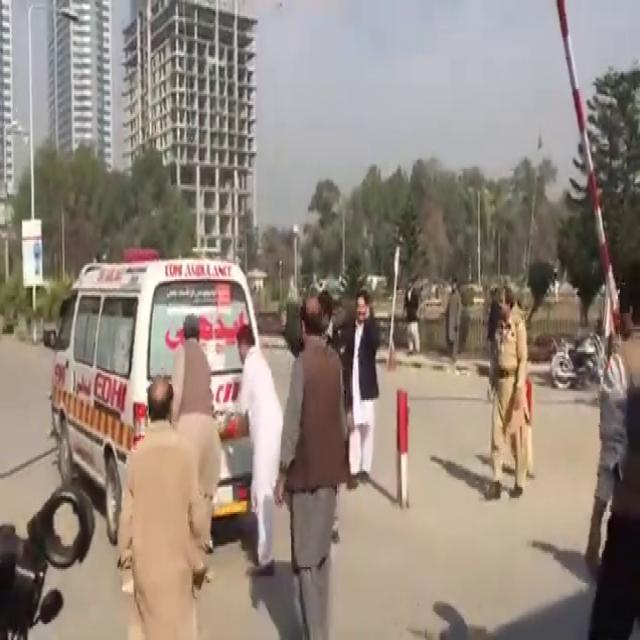ambulance: (54, 248, 291, 494)
